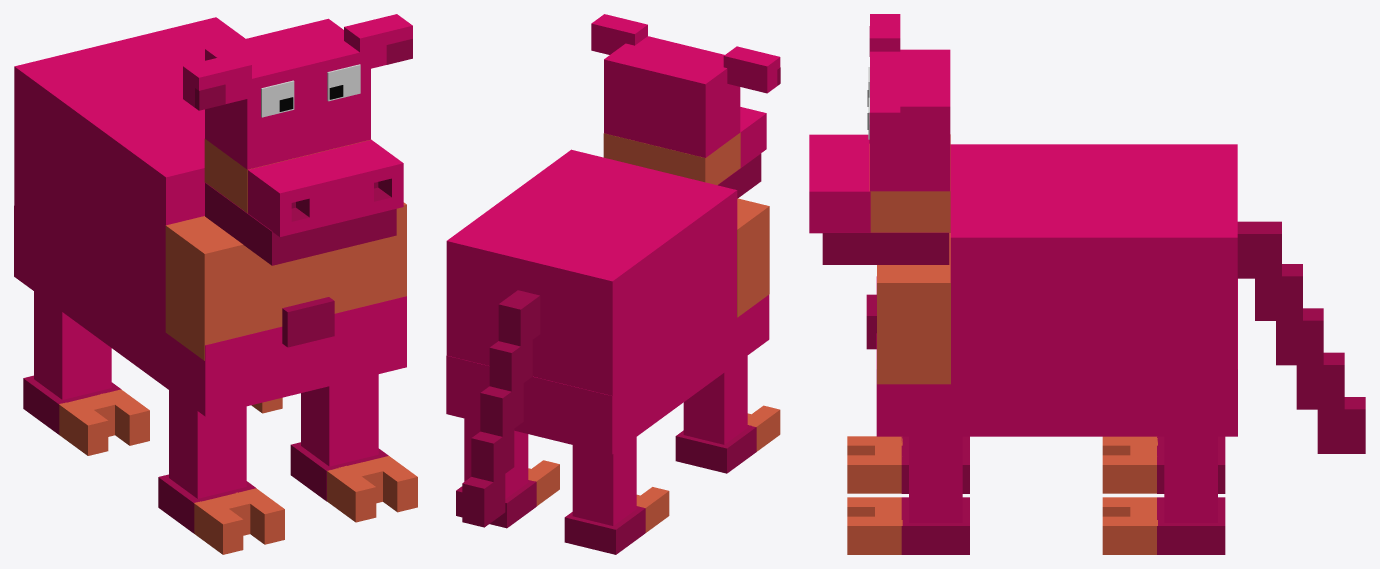
File: dog.fbx
3 renders of one model, left to right at view 1: azimuth 30°, elevation 25°; view 2: azimuth 150°, elevation 25°; view 3: azimuth 270°, elevation 25°, orthographic. The views are drawn at different scales.
Visible parts, largest first — view 1: pCube90, pCube459, pCube462, pCube472, pCube100, pCube101, pCube88, pCube449, pCube475, pCube473, pCube474, pCube463 (+40 smaller); view 2: pCube90, pCube475, pCube448, pCube467, pCube449, pCube444, pCube468, pCube100, pCube89, pCube472, pCube474, pCube473 (+36 smaller); view 3: pCube90, pCube460, pCube464, pCube465, pCube466, pCube467, pCube71, pCube75, pCube79, pCube83, pCube437, pCube446 (+39 smaller).
Part boxes in pixels (x1,y1,x2,y2): pCube90: (205, 18, 370, 169); pCube459: (165, 216, 272, 360); pCube462: (166, 329, 272, 416); pCube472: (127, 132, 204, 247); pCube100: (169, 390, 246, 498); pCube101: (301, 374, 378, 466); pCube88: (205, 182, 396, 265); pCube449: (34, 291, 111, 399); pCube475: (14, 50, 119, 163); pCube473: (88, 104, 194, 219); pCube474: (51, 77, 154, 190); pCube463: (339, 296, 406, 383); pCube90: (604, 36, 740, 157); pCube475: (556, 246, 644, 337); pCube448: (556, 317, 644, 395); pCube467: (446, 218, 532, 311); pCube449: (572, 437, 636, 525); pCube444: (556, 383, 628, 454); pCube468: (502, 231, 589, 325); pCube100: (683, 356, 747, 444); pCube89: (603, 132, 740, 184); pCube472: (651, 176, 737, 270); pCube474: (588, 223, 675, 314); pCube473: (618, 200, 705, 293); pCube90: (870, 49, 950, 191); pCube460: (877, 251, 950, 384); pCube464: (950, 206, 1024, 304); pCube465: (1023, 206, 1097, 304); pCube466: (1093, 206, 1167, 304); pCube467: (1163, 206, 1237, 304); pCube71: (950, 369, 1024, 436); pCube75: (1023, 369, 1097, 436); pCube79: (951, 303, 1024, 369); pCube83: (1023, 303, 1097, 369); pCube437: (1093, 303, 1167, 369); pCube446: (1163, 303, 1237, 369).
Bounding box in the file's own units: 6.3 × 13.26 × 15.01.
